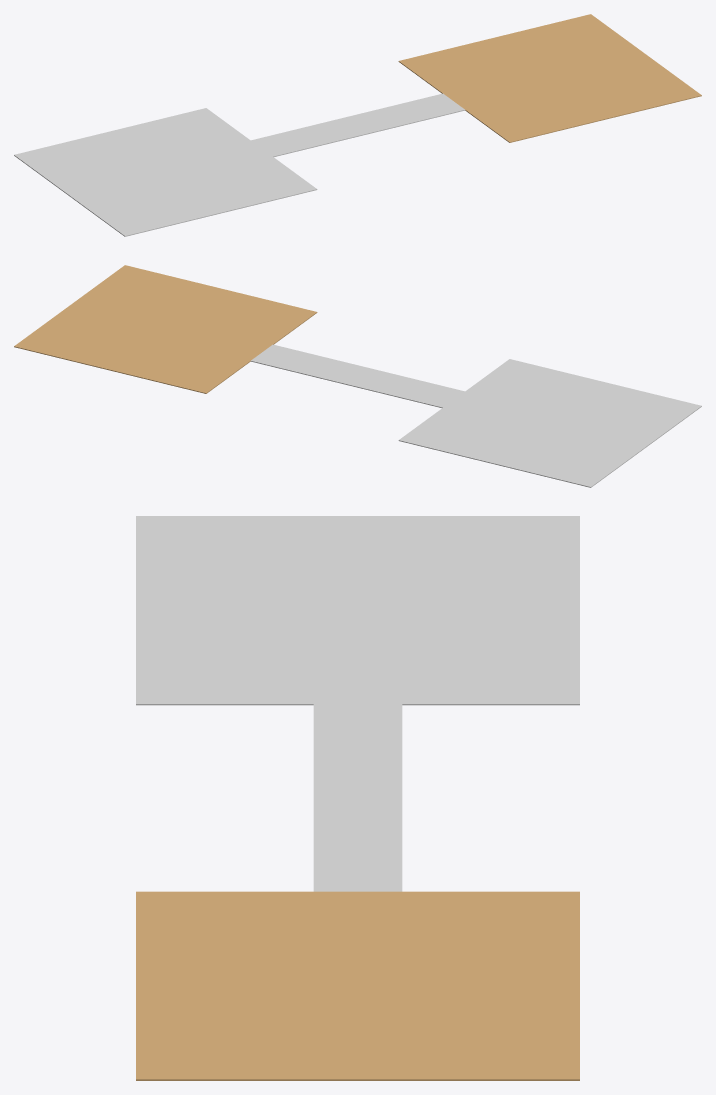
Rendered from board.glb.
3 views of the same model, one above another, from view 1: azimuth 30°, elevation 25°; view 2: azimuth 150°, elevation 25°; view 3: azimuth 270°, elevation 25° (orthographic). The views are drawn at different scales.
Visible parts, largest first — view 1: Analytic_Route_Net_1_Contour_0, Analytic_Route_Net_2_Contour_0; view 2: Analytic_Route_Net_1_Contour_0, Analytic_Route_Net_2_Contour_0; view 3: Analytic_Route_Net_1_Contour_0, Analytic_Route_Net_2_Contour_0.
Part boxes in pixels (x1,y1,x2,y2): Analytic_Route_Net_1_Contour_0: [14, 93, 465, 236]; Analytic_Route_Net_2_Contour_0: [398, 14, 701, 142]; Analytic_Route_Net_1_Contour_0: [250, 344, 701, 487]; Analytic_Route_Net_2_Contour_0: [14, 265, 317, 393]; Analytic_Route_Net_1_Contour_0: [136, 516, 579, 891]; Analytic_Route_Net_2_Contour_0: [136, 891, 579, 1080].
Size of the model in its own units: 0.0003 by 4e-07 by 0.0001.
